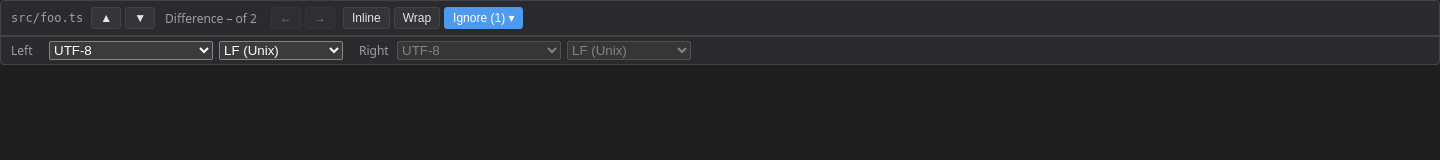
it: <TextDiffView /> copy current difference › disables copy to a non-writable side with no create fallback
Click the button named "Next difference". click: click(140, 18)
box: [125,7,155,29]
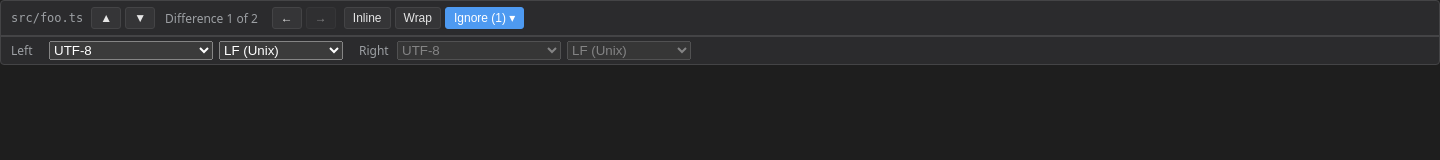
Expected: the button named "Copy difference to right" is disabled, [306,7,336,29]
Now the button named "Copy difference to left" is enabled, box [272,7,302,29]
